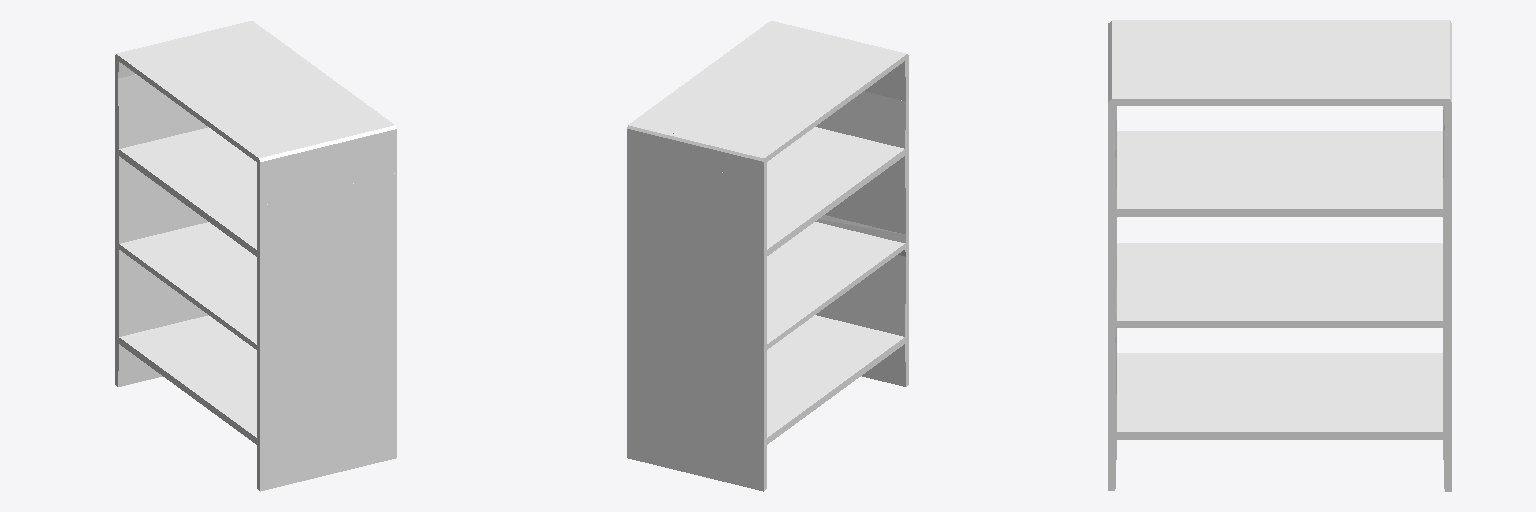
URDF robot description (bookshelves):
<?xml version="1.0" ?>
<robot name="bookshelves">
    <link name="bookshelf" type="static">
        <contact>
            <lateral_friction value="100000.0"/>
            <rolling_friction value="0.0"/>
        </contact>
        <inertial>
            <mass value="0"/>
            <inertia ixx="0" ixy="0" ixz="0" iyy="0" iyz="0" izz="0"/>
        </inertial>


        <visual>
            <geometry>
                <mesh filename="bookshelves_center.obj"/>
            </geometry>
            <material name="white">
                <color rgba="1 1 1 1"/>
            </material>
        </visual>

        <collision>
            <geometry>
                <mesh filename="bookshelves_center.obj"/>
            </geometry>
        </collision>
    </link>
</robot>

--- Render facts (derived) ---
Views: 3 orthographic renders of the robot side by side, from view 1: azimuth 30°, elevation 25°; view 2: azimuth 150°, elevation 25°; view 3: azimuth 270°, elevation 25°.
Robot: bookshelves — 1 links, 0 joints (none); root link bookshelf; default pose: all joints at 0.
Links seen in each view (by area): view 1: bookshelf; view 2: bookshelf; view 3: bookshelf.
Link boxes in pixels (x1,y1,x2,y2): bookshelf: (115,21,396,491); bookshelf: (627,21,908,491); bookshelf: (1108,20,1451,491).
Bounding box of the posed robot: 0.6085 × 1.12 × 1.42 m (x, y, z).
Meshes: 1 distinct files referenced, 1 mesh visuals loaded (1 OBJ).